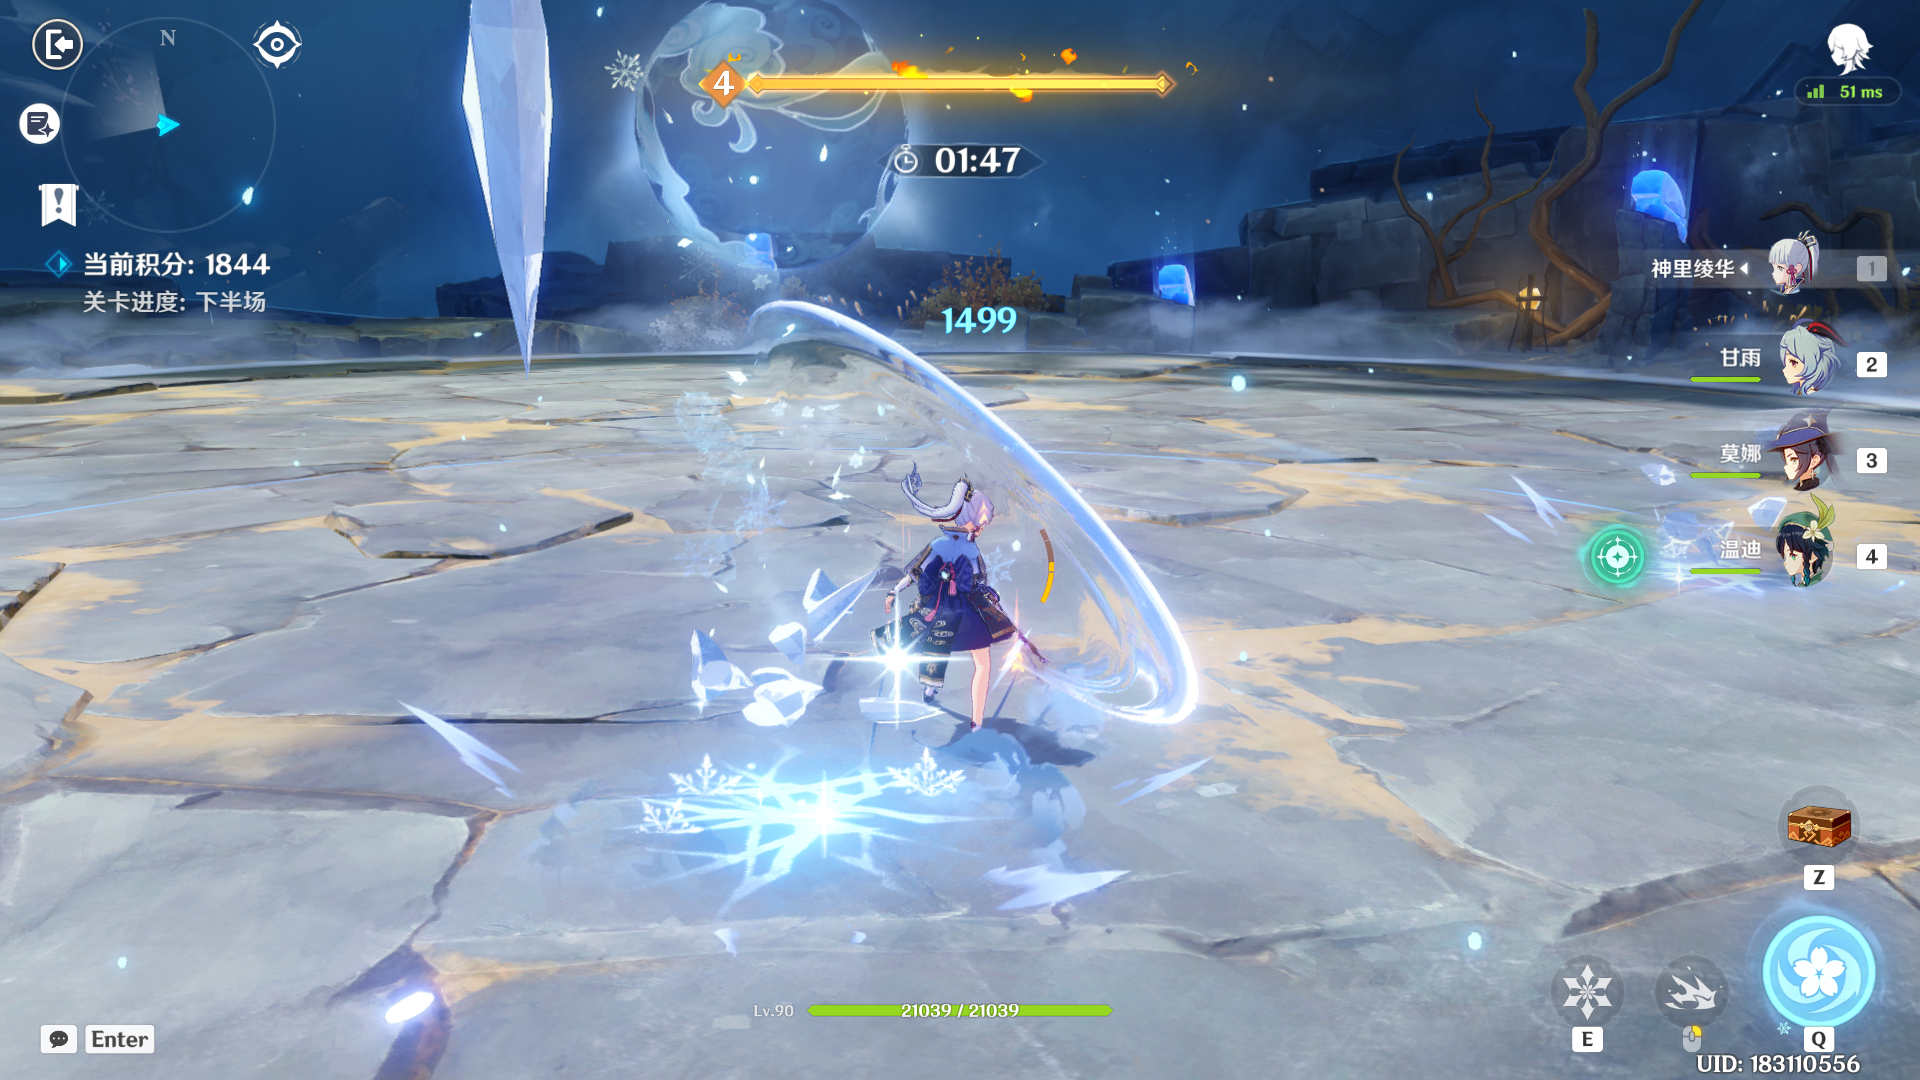character: (829, 450, 1130, 808)
